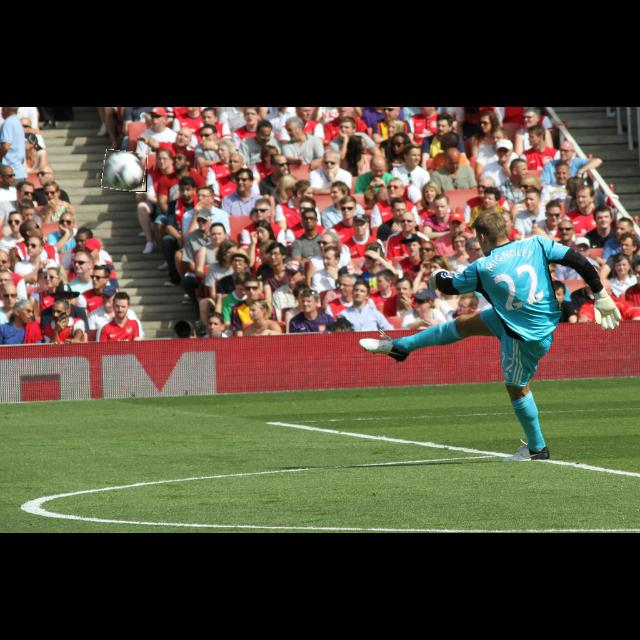Football: (103, 150, 147, 192)
